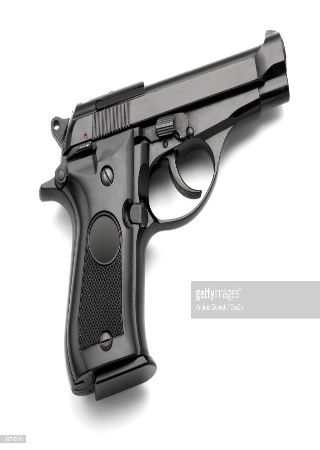handgun: (38, 29, 291, 400)
